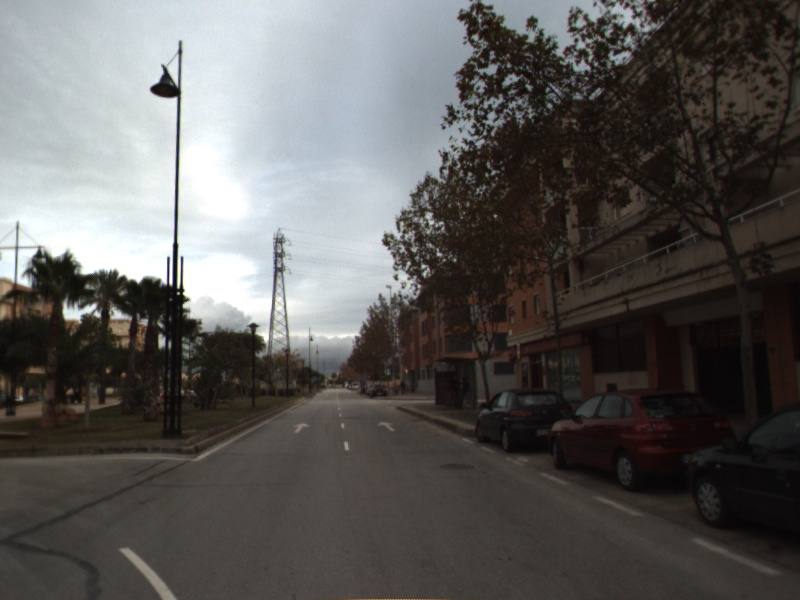STRAIGHT: (376, 419, 398, 433), (291, 421, 312, 435)
